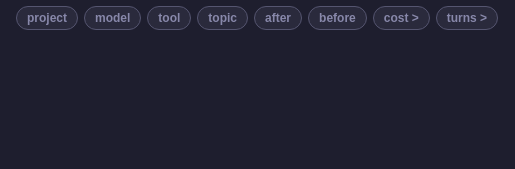
Test: FilterChips — autocomplete chips › clicking 'project' opens a dropdown with search input + all project names
This screenshot has width=515, height=169.
Click the button "project" at (47, 18), box [16,6,78,30]
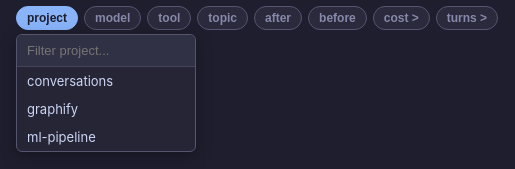
Expected: the field with placeholder "Filter project..." is shown, [17,35,195,67]
Expected: the text "conversations" is shown, [27,73,113,89]
Expected: the text "graphify" is shown, [27,101,78,117]
